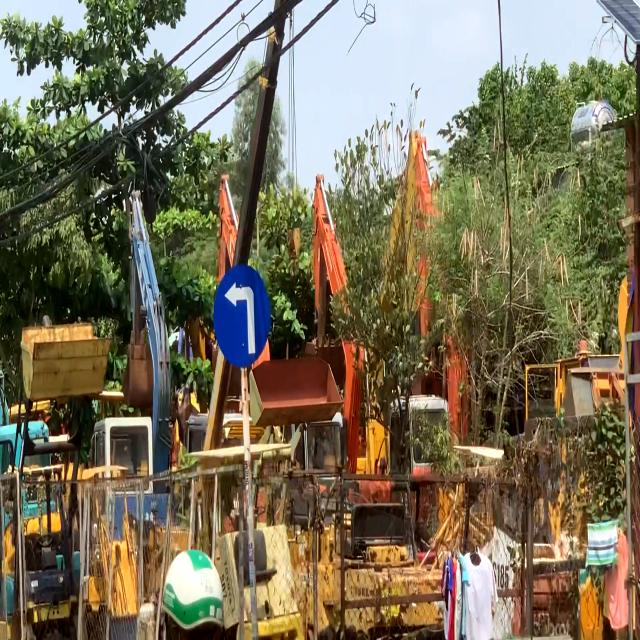R.301e: (212, 262, 272, 369)
